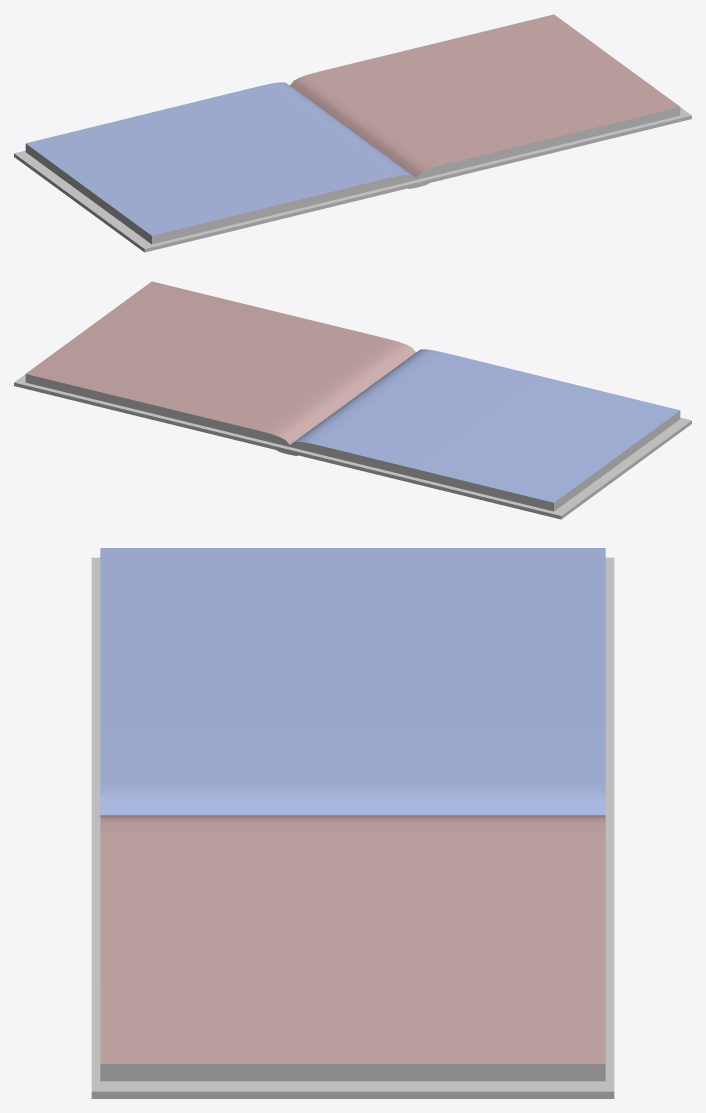
The model's file is LibroUVsfbx.fbx.
3 views of the same model, one above another, from view 1: azimuth 30°, elevation 25°; view 2: azimuth 150°, elevation 25°; view 3: azimuth 270°, elevation 25° (orthographic). The views are drawn at different scales.
Visible parts, largest first — view 1: polySurface2; view 2: polySurface2; view 3: polySurface2.
Boxes of the visible parts, x1,y1,x2,y2 form: polySurface2: [14, 14, 691, 252]; polySurface2: [14, 281, 691, 519]; polySurface2: [91, 548, 614, 1098].
Bounding box in the file's own units: 2.5 × 0.0635 × 1.03.
